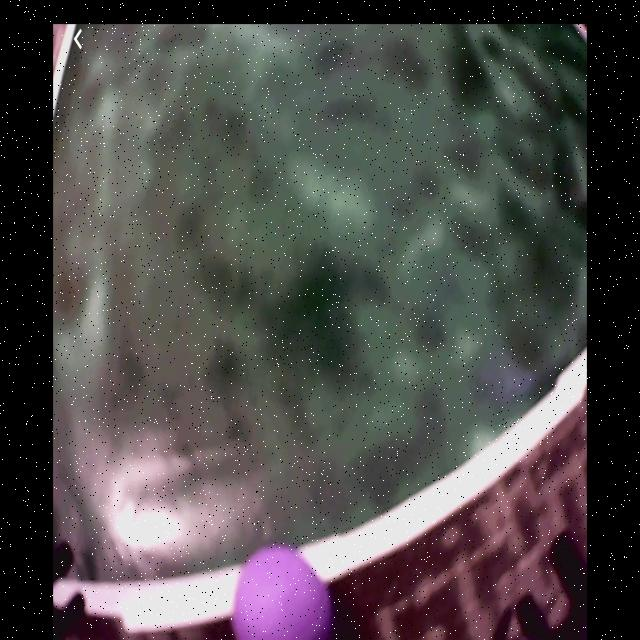ball: (226, 544, 340, 640)
